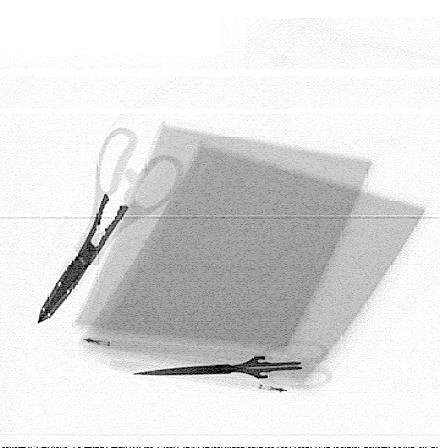Scissors: (37, 126, 186, 325), (129, 337, 336, 393)
